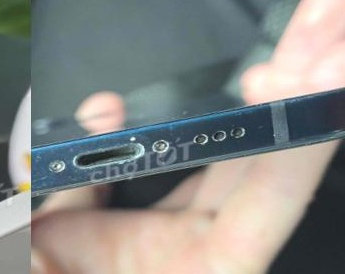scratch: (31, 70, 309, 252)
